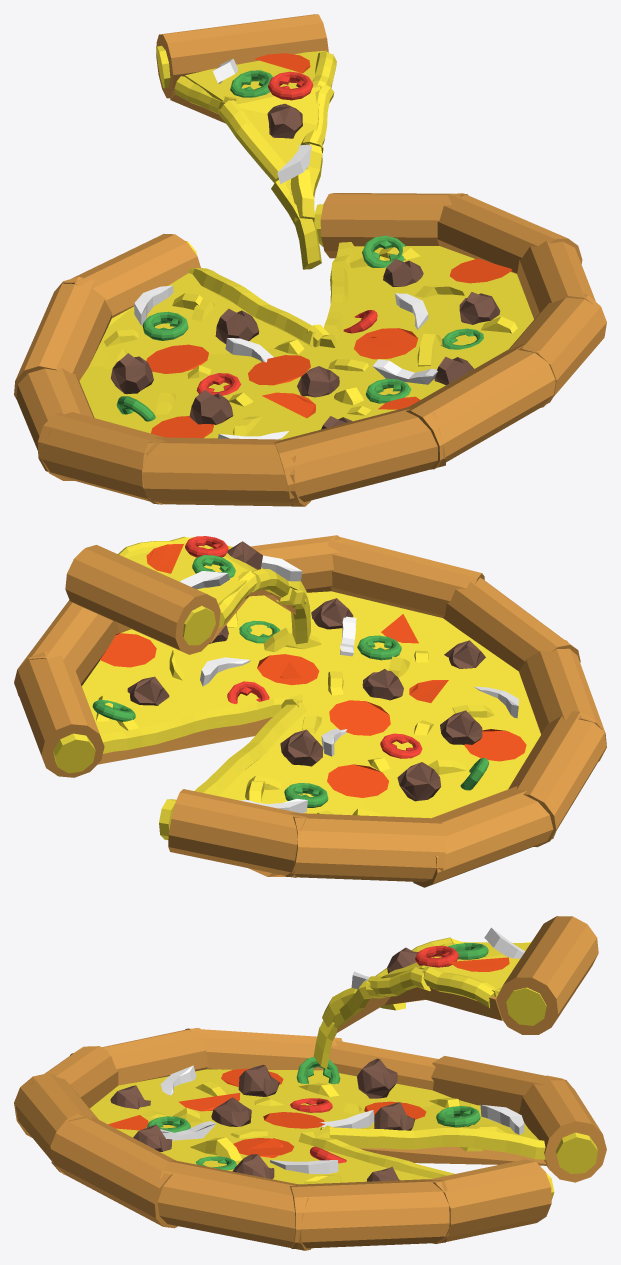
The model's file is pizza_draco.glb.
The picture shows the model from 3 angles, top to bottom: view 1: azimuth 30°, elevation 25°; view 2: azimuth 150°, elevation 25°; view 3: azimuth 270°, elevation 25°; orthographic projection. The views are drawn at different scales.
Parts seen in each view (by area): view 1: group2105465097, group1811405136, group208991116, group1971209806, group806392919, group266181164, group2001240031, group302675939, group1993479578, group591555689, group1838553807, group1903672182 (+23 smaller); view 2: group2105465097, group1811405136, group806392919, group208991116, group2001240031, group1993479578, group133488399, group820647303, group302675939, group1342538935, group591555689, group1903672182 (+28 smaller); view 3: group2105465097, group1811405136, group208991116, group806392919, group1508443572, group1999287418, group43721741, group591555689, group1721977863, group1838553807, group1903672182, group464044285 (+25 smaller).
Part boxes in pixels (x1,y1,x2,y2): group2105465097: [14, 193, 606, 506]; group1811405136: [156, 14, 333, 195]; group208991116: [188, 268, 315, 346]; group1971209806: [219, 100, 285, 182]; group806392919: [320, 242, 354, 347]; group266181164: [271, 180, 321, 269]; group2001240031: [248, 355, 310, 385]; group302675939: [354, 328, 418, 359]; group1993479578: [146, 344, 208, 373]; group591555689: [110, 353, 153, 394]; group1838553807: [189, 390, 233, 424]; group1903672182: [215, 308, 259, 343]; group2105465097: [14, 535, 606, 887]; group1811405136: [65, 537, 296, 654]; group806392919: [100, 694, 302, 753]; group208991116: [194, 701, 307, 795]; group2001240031: [329, 700, 390, 735]; group1993479578: [327, 764, 388, 797]; group133488399: [100, 633, 156, 667]; group820647303: [464, 729, 526, 761]; group302675939: [257, 654, 319, 685]; group1342538935: [53, 733, 95, 773]; group591555689: [397, 762, 441, 801]; group1903672182: [280, 729, 322, 766]; group2105465097: [14, 1028, 606, 1250]; group1811405136: [336, 916, 598, 1034]; group208991116: [320, 1127, 545, 1159]; group806392919: [298, 1132, 454, 1178]; group1508443572: [366, 967, 499, 1008]; group1999287418: [556, 1132, 597, 1174]; group43721741: [506, 987, 546, 1025]; group591555689: [357, 1058, 397, 1098]; group1721977863: [367, 967, 430, 996]; group1838553807: [238, 1064, 279, 1096]; group1903672182: [374, 1102, 414, 1130]; group464044285: [211, 1097, 251, 1126].
Bounding box in the file's own units: 0.279 × 0.1525 × 0.2809.
